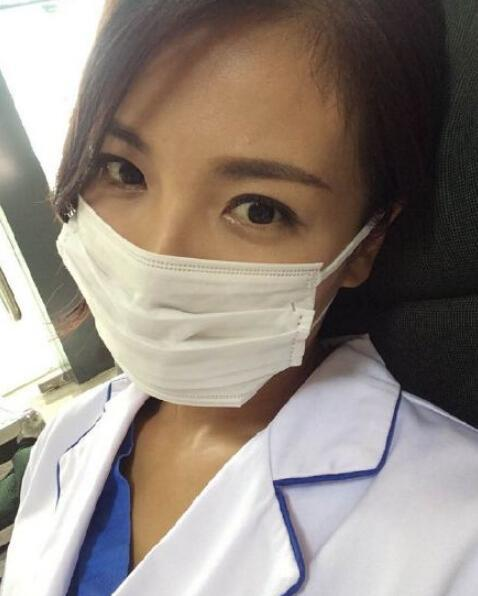face_mask: (67, 6, 340, 405)
